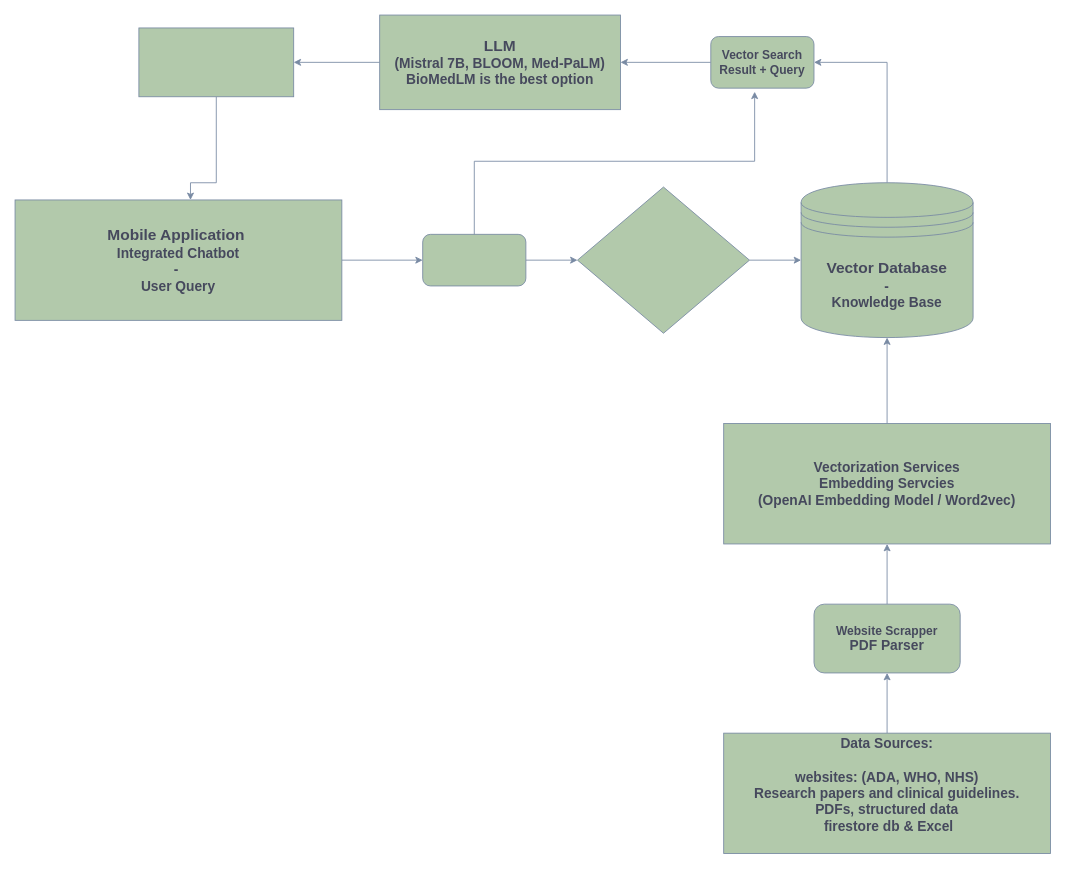
Image size: 1066x869. Some labels were removed from this diagram. Each missing label, with the centre of its shape:
"Human readable format" belongs at (x=216, y=62).
"Query Embedding" belongs at (x=474, y=259).
"Vector Search Similarity Search" belongs at (x=663, y=259).
